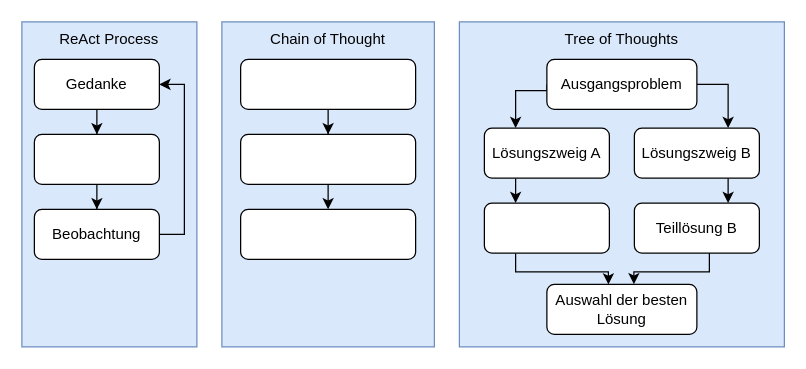
Some shapes in this 806 by 369 pixel diagram are drawn without their labels. The shapes that lost their labels are listed below. From the top down, each one's box as (x1, y1, x2, y2) in pixels, then its label:
(239, 58, 416, 109): Initales Verständnis
(33, 133, 159, 184): Aktion
(239, 133, 416, 184): Schritt für Schritt Analyse
(239, 208, 416, 259): Endlösung
(483, 202, 609, 253): Teillösung A
